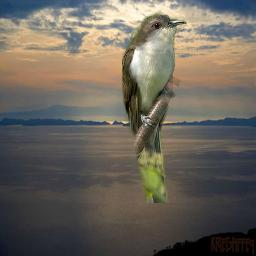Cuckoo: (122, 8, 187, 203)
